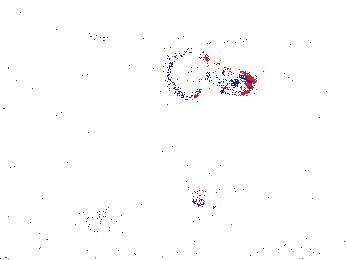flame jellyfish: (161, 46, 256, 102), (41, 170, 125, 228), (186, 159, 236, 212)
